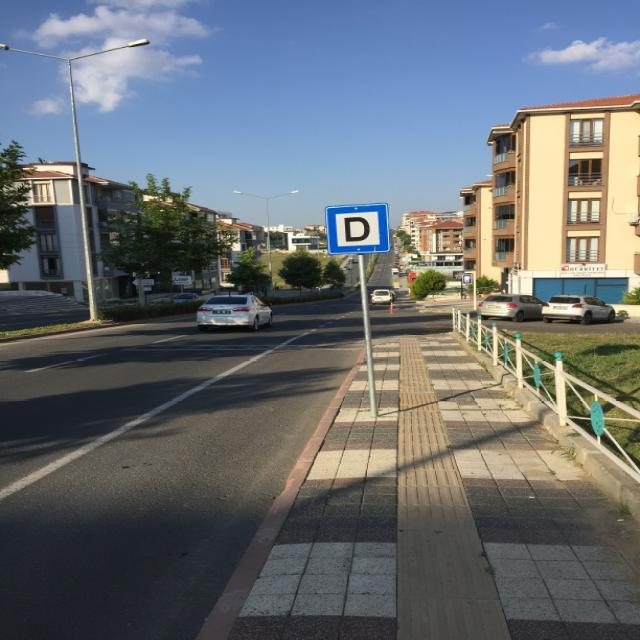durak: (320, 204, 396, 257)
